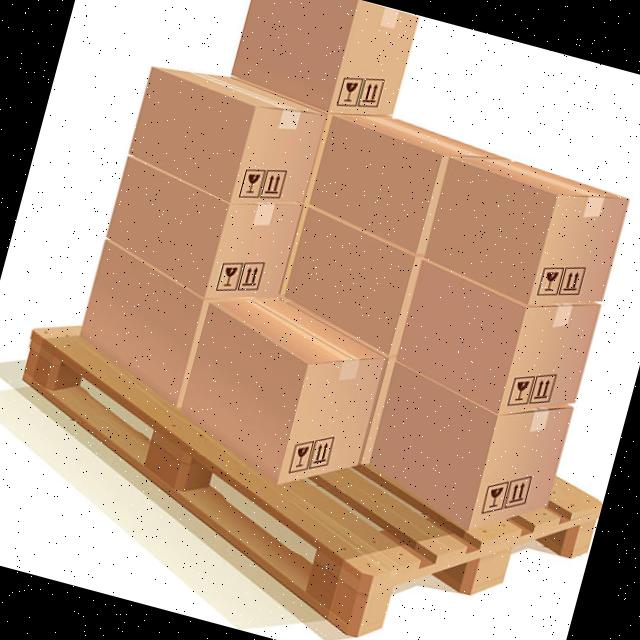Wooden-Pallets: (2, 305, 600, 640)
